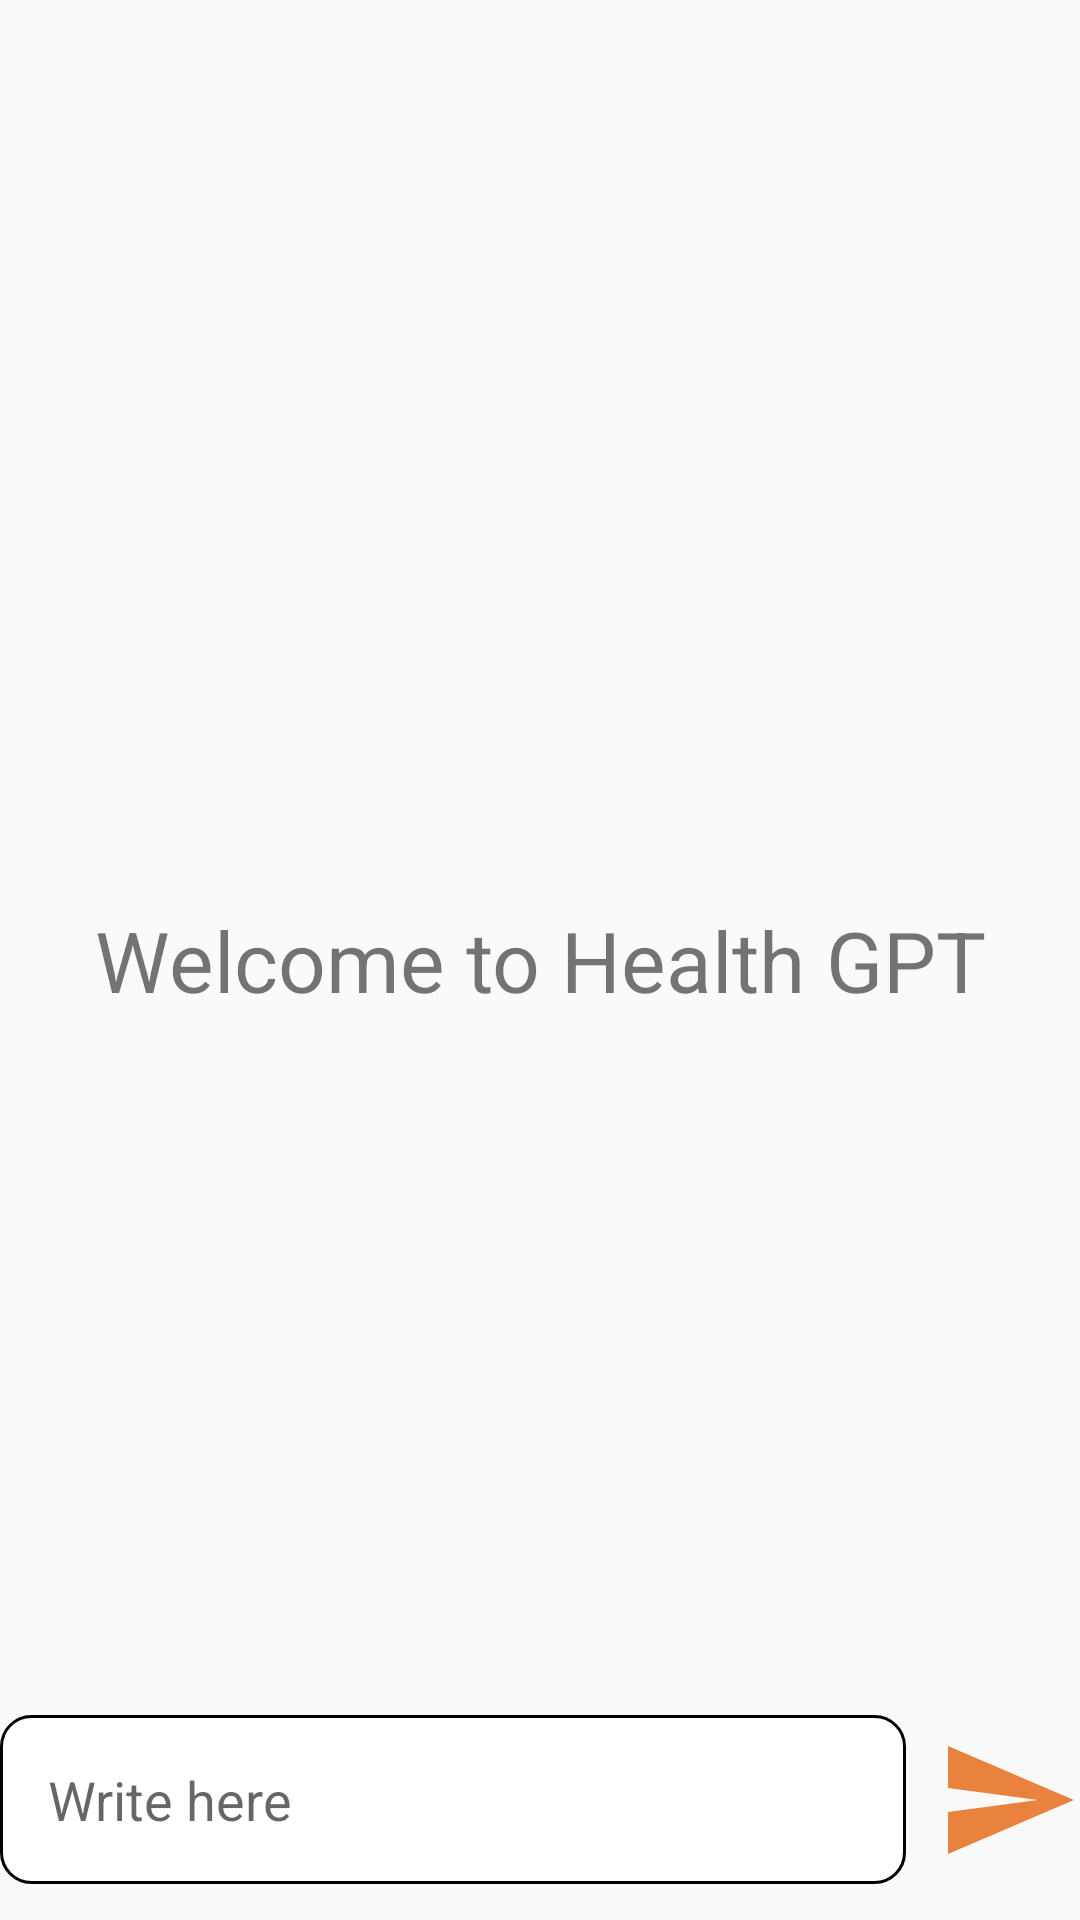

Locate icon controls on the screen. Image size 1080x1920, boxes as (x1,y1,x2,y2).
send: (948,1746,1074,1854)
